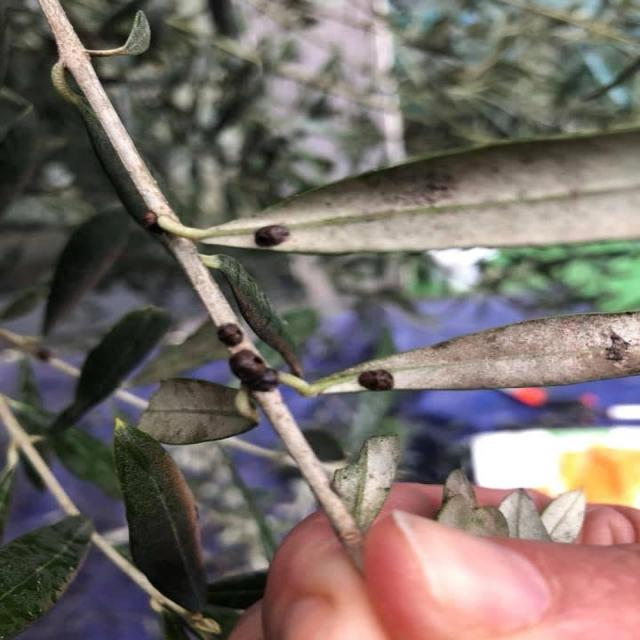Black Scale: (229, 351, 278, 391), (254, 225, 290, 247), (358, 369, 393, 391), (218, 323, 244, 347), (142, 211, 156, 229)
